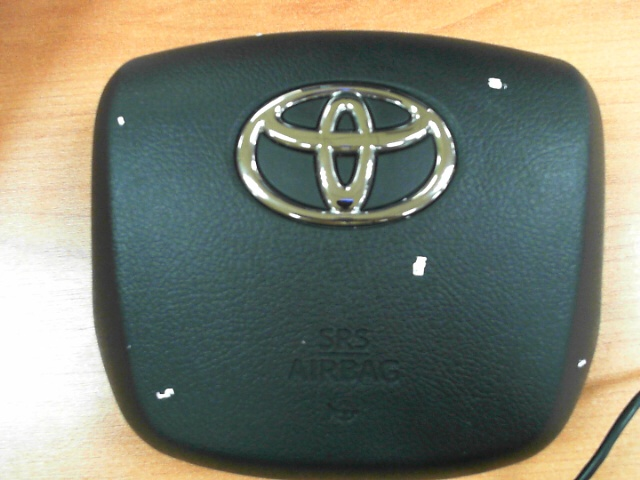Airbag: (411, 254, 428, 277), (487, 77, 508, 90), (113, 111, 128, 129), (155, 387, 174, 399), (577, 358, 587, 368)
